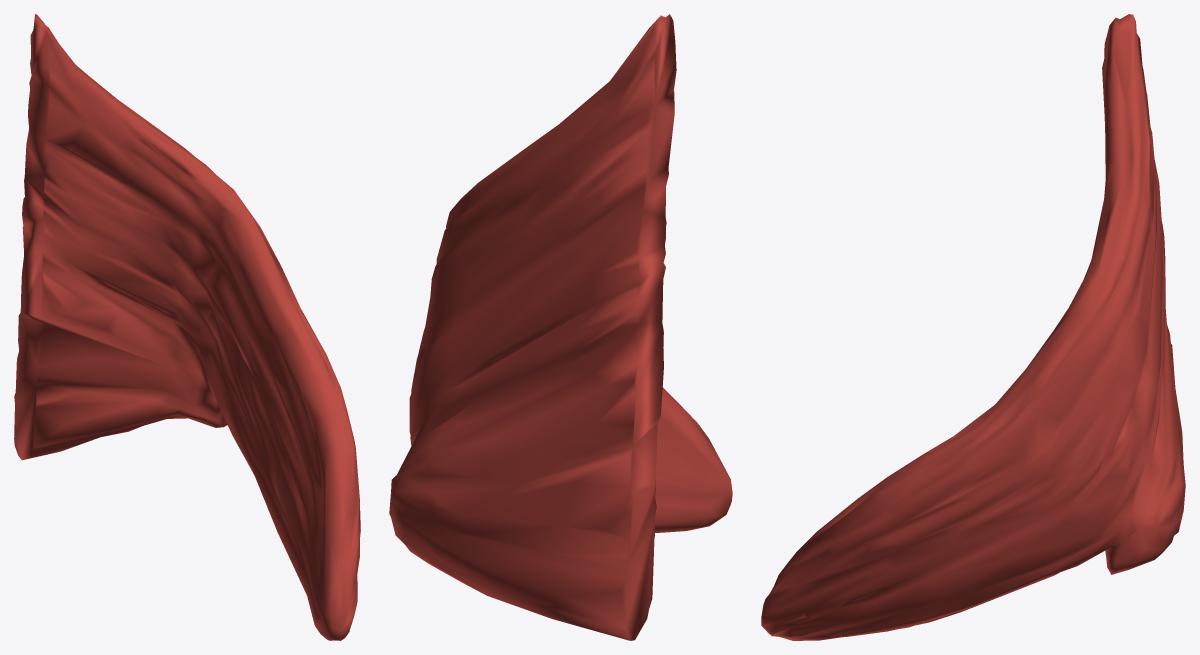
File: musculos-middle-pharyngeal-constrictor-l.glb
3 renders of one model, left to right at view 1: azimuth 30°, elevation 25°; view 2: azimuth 150°, elevation 25°; view 3: azimuth 270°, elevation 25°, orthographic. The views are drawn at different scales.
Visible parts, largest first — view 1: Middle pharyngeal constrictor.l; view 2: Middle pharyngeal constrictor.l; view 3: Middle pharyngeal constrictor.l.
Boxes of the visible parts, x1,y1,x2,y2 form: Middle pharyngeal constrictor.l: (14, 14, 360, 640); Middle pharyngeal constrictor.l: (389, 14, 732, 640); Middle pharyngeal constrictor.l: (761, 14, 1185, 640).
Size of the model in its own units: 0.0188 by 0.0458 by 0.0316.
